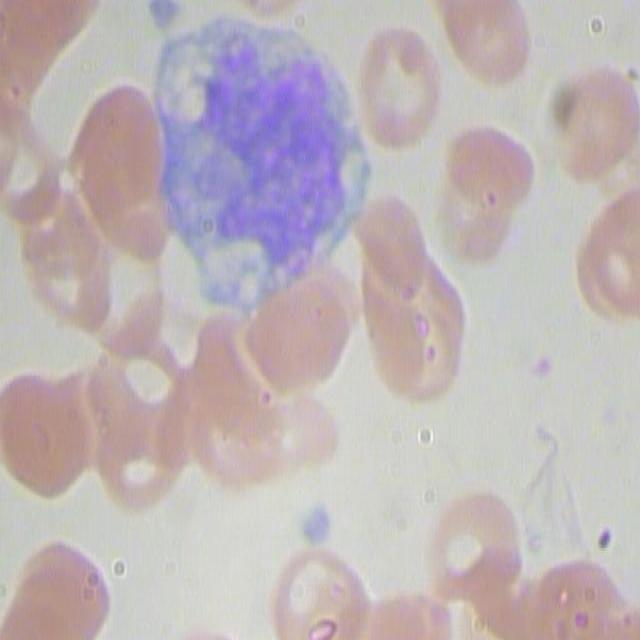RBC: (356, 197, 464, 399), (76, 82, 170, 269), (91, 336, 192, 498), (181, 334, 278, 472), (248, 277, 352, 395), (24, 184, 108, 329), (3, 366, 94, 496), (2, 536, 114, 640), (450, 125, 534, 263), (0, 2, 104, 109), (424, 489, 524, 597), (554, 69, 639, 186), (356, 32, 442, 147), (269, 548, 372, 640), (578, 196, 640, 329), (468, 552, 560, 640), (443, 0, 529, 84), (531, 561, 621, 640), (347, 590, 454, 637), (272, 399, 342, 457)
WBC: (156, 19, 374, 314)
